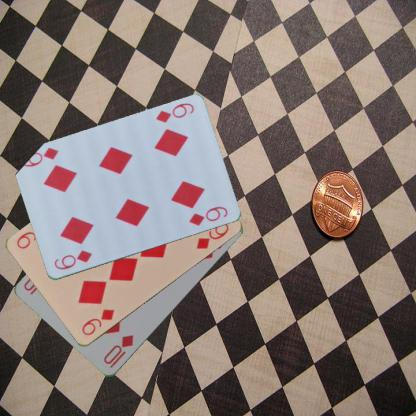10d: (101, 333, 135, 369)
6d: (152, 100, 196, 125), (51, 247, 93, 272)
9d: (78, 306, 116, 338)
